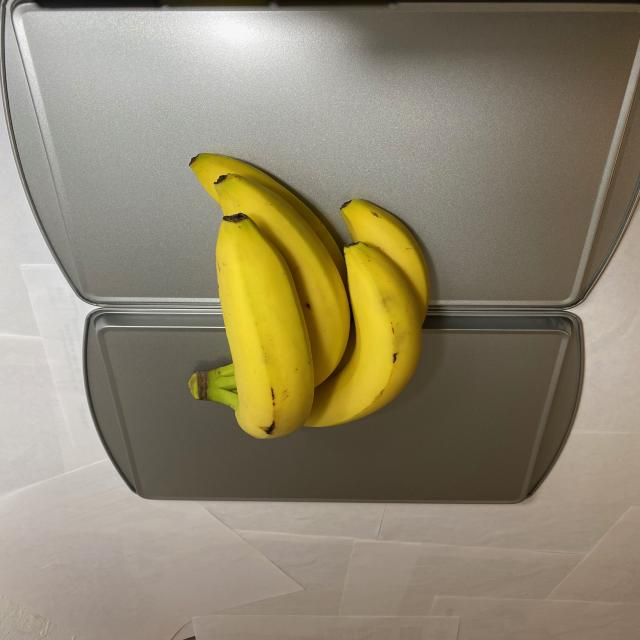banana: (183, 145, 435, 442)
